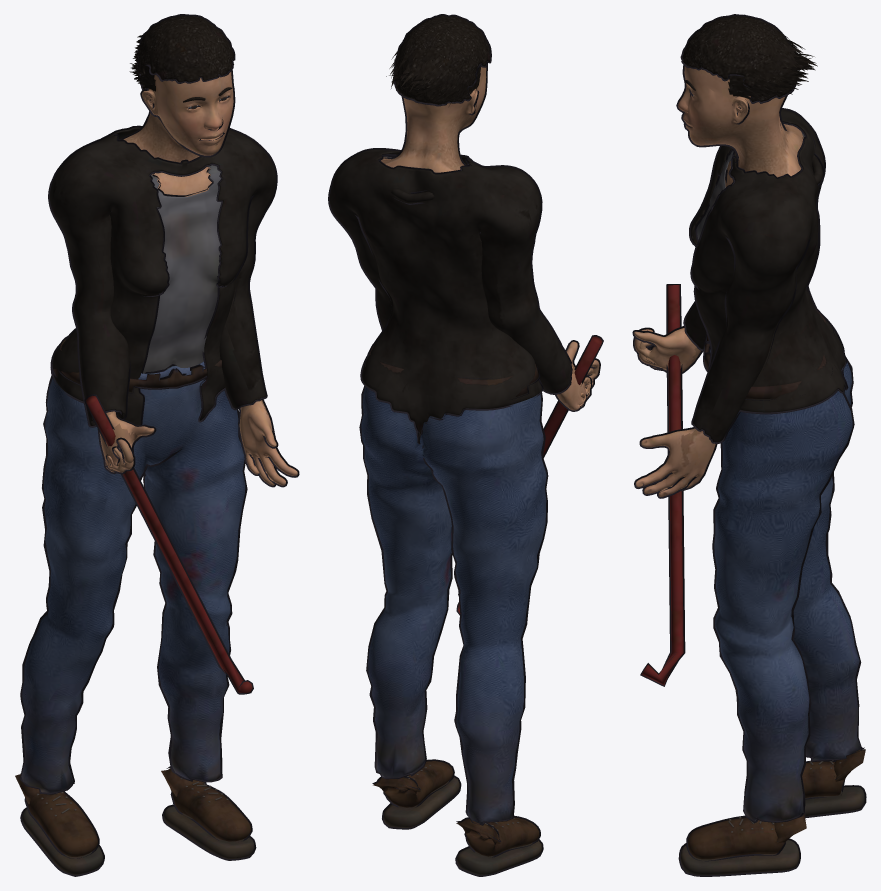
File: sam.glb
3 renders of one model, left to right at view 1: azimuth 30°, elevation 25°; view 2: azimuth 150°, elevation 25°; view 3: azimuth 270°, elevation 25°, orthographic. The views are drawn at different scales.
Visible parts, largest first — view 1: SAM pants, SAM jacket, SAM body, SAM tee, sam haircap, SAM jacket hull, sam weapon, SAM pants hull, sam R shoe, sam L shoe, SAM body hull, sam L sole (+5 smaller); view 2: SAM pants, SAM jacket, SAM body, sam haircap, SAM pants hull, sam hair, SAM jacket hull, sam R shoe, sam L shoe, sam R sole, sam L sole, sam weapon (+2 smaller); view 3: SAM pants, SAM jacket, SAM body, sam haircap, sam weapon, sam L shoe, SAM jacket hull, SAM pants hull, sam hair, sam L sole, SAM body hull, sam R shoe (+5 smaller).
Part boxes in pixels (<box>): SAM pants: <box>21,361,245,792</box>; SAM jacket: <box>49,127,275,425</box>; SAM body: <box>99,72,297,485</box>; SAM tee: <box>143,165,221,373</box>; sam haircap: <box>138,15,233,89</box>; SAM jacket hull: <box>48,125,277,427</box>; sam weapon: <box>86,395,252,692</box>; SAM pants hull: <box>20,335,247,794</box>; sam R shoe: <box>15,774,97,856</box>; sam L shoe: <box>161,768,250,841</box>; SAM body hull: <box>97,70,299,487</box>; sam L sole: <box>163,806,254,859</box>; SAM pants: <box>361,387,546,824</box>; SAM jacket: <box>329,149,570,443</box>; SAM body: <box>381,67,599,410</box>; sam haircap: <box>394,15,490,104</box>; SAM pants hull: <box>359,344,548,825</box>; sam hair: <box>386,42,480,105</box>; SAM jacket hull: <box>328,148,572,444</box>; sam R shoe: <box>456,817,539,856</box>; sam L shoe: <box>373,761,453,807</box>; sam R sole: <box>457,840,541,875</box>; sam L sole: <box>383,777,459,827</box>; sam weapon: <box>457,336,602,613</box>; SAM pants: <box>709,349,861,821</box>; SAM jacket: <box>685,109,846,442</box>; SAM body: <box>634,66,803,496</box>; sam haircap: <box>682,15,794,102</box>; sam weapon: <box>642,285,683,685</box>; sam L shoe: <box>688,814,806,859</box>; SAM jacket hull: <box>683,108,848,443</box>; SAM pants hull: <box>708,310,862,823</box>; sam hair: <box>728,29,817,100</box>; sam L sole: <box>680,840,799,875</box>; SAM body hull: <box>632,65,787,498</box>; sam R shoe: <box>802,749,865,797</box>.
Bounding box in the file's own units: 0.4942 × 1.7 × 0.4267.
Materials: 22 (18 with a texture image).
